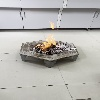fire: (35, 21, 60, 52)
